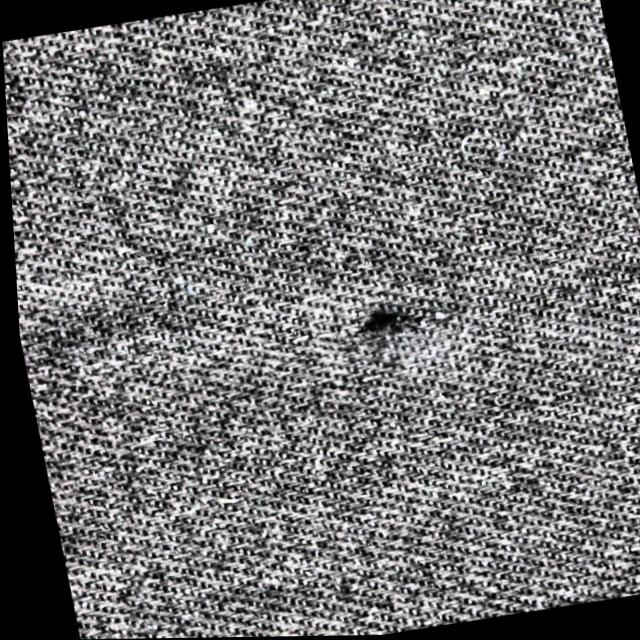Hole: (315, 287, 454, 358)
